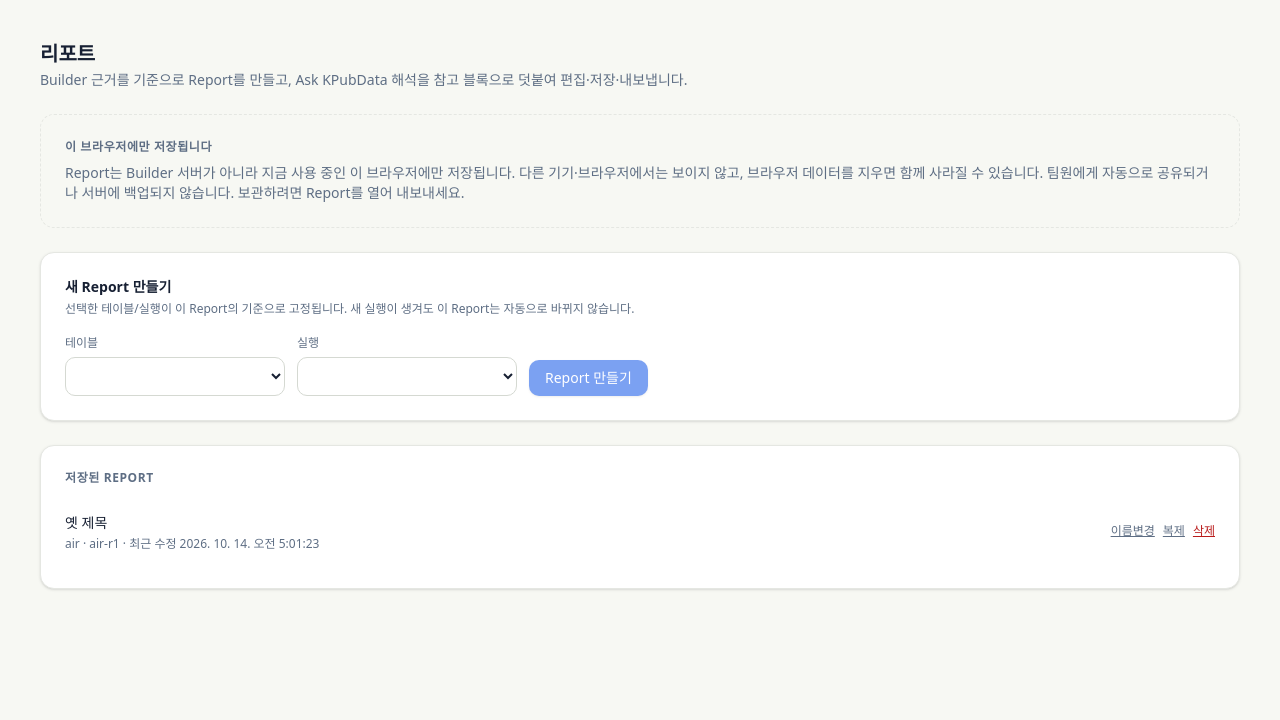
Scenario: ReportsPage saved-report actions › renames a report
Click the button "이름변경" at (1133, 531), box [1111,523,1155,539]
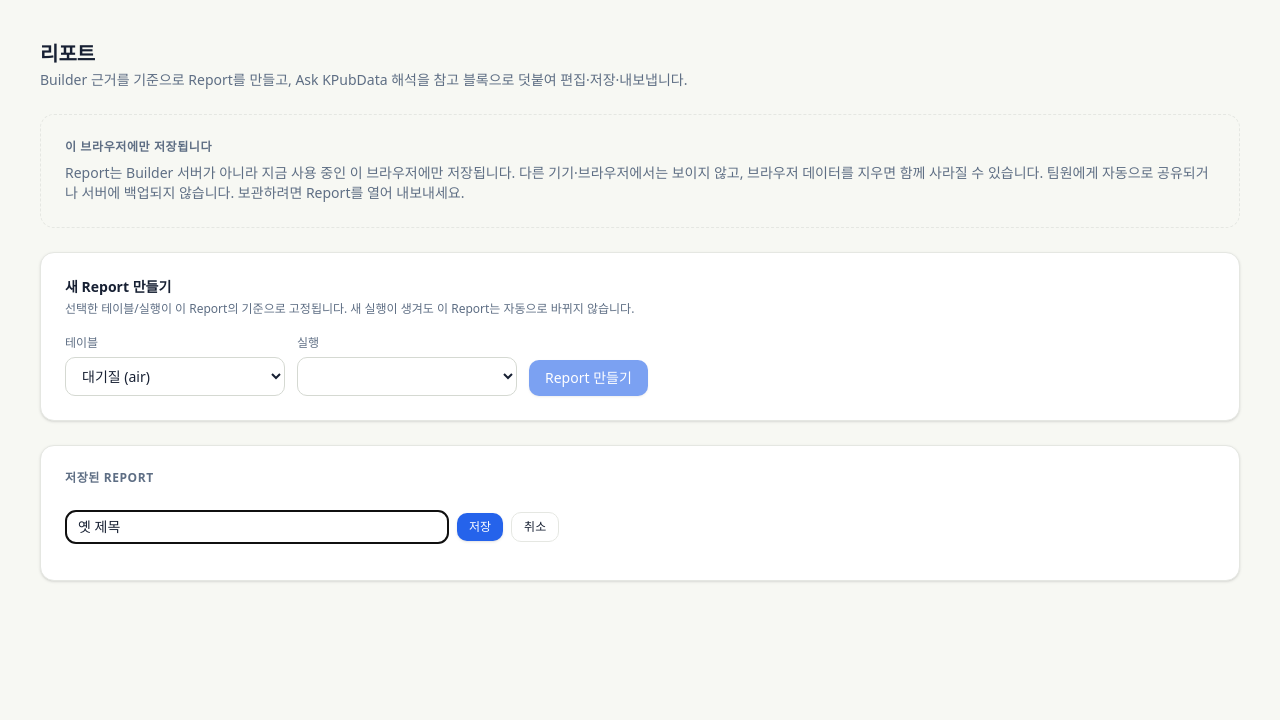
Replace the text in the field with "새 제목" at (257, 527), box [65,510,449,544]
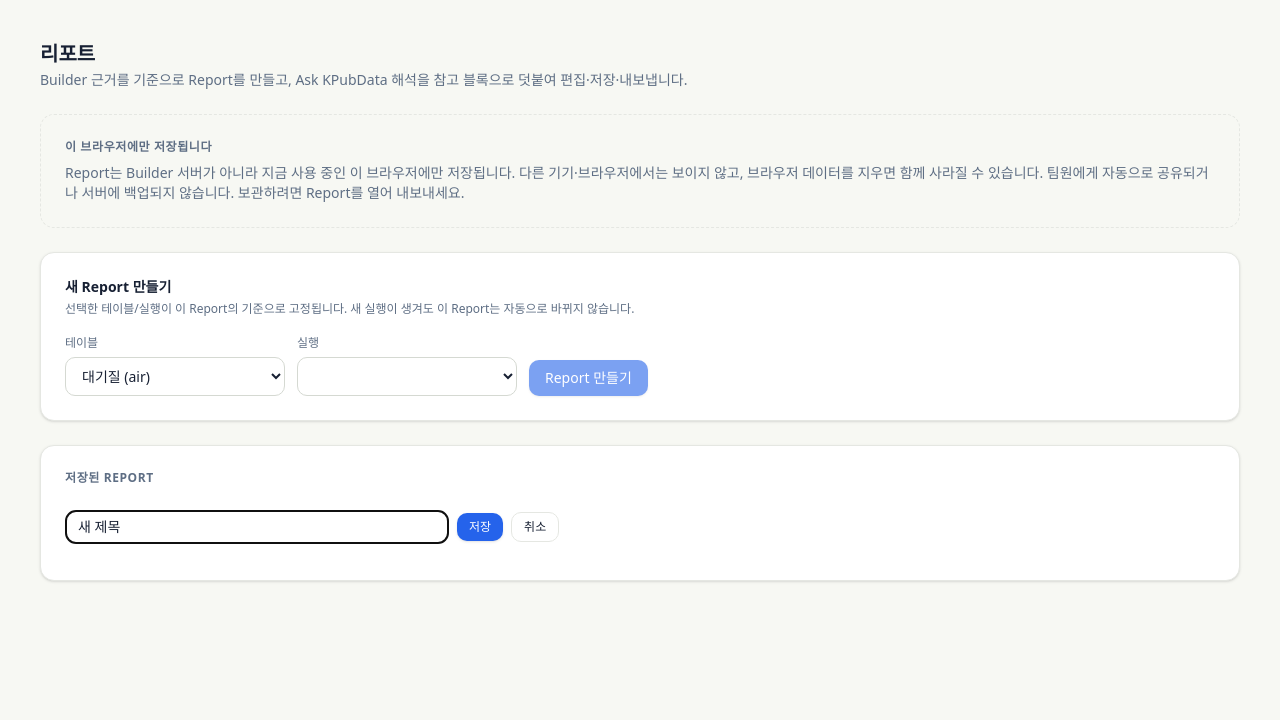
Click the button "저장" at (480, 527), box [457,513,503,541]
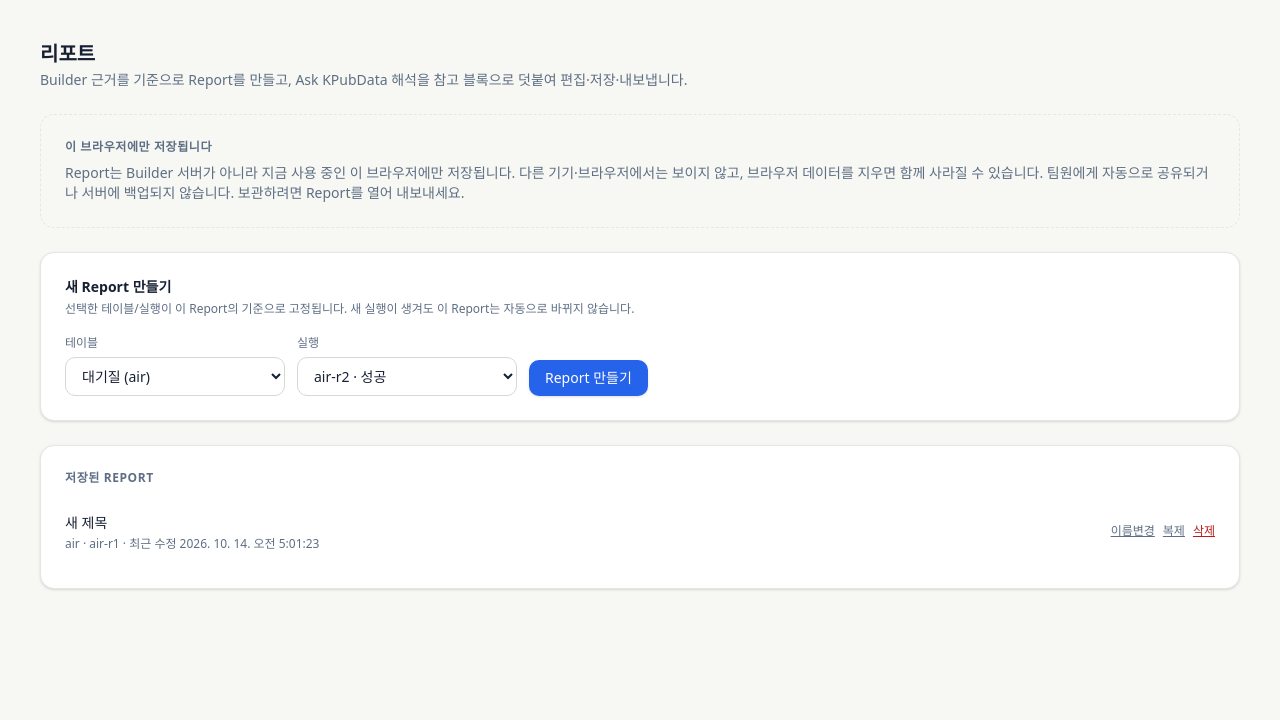
Now the button "새 제목" is shown, box [65,513,107,533]
